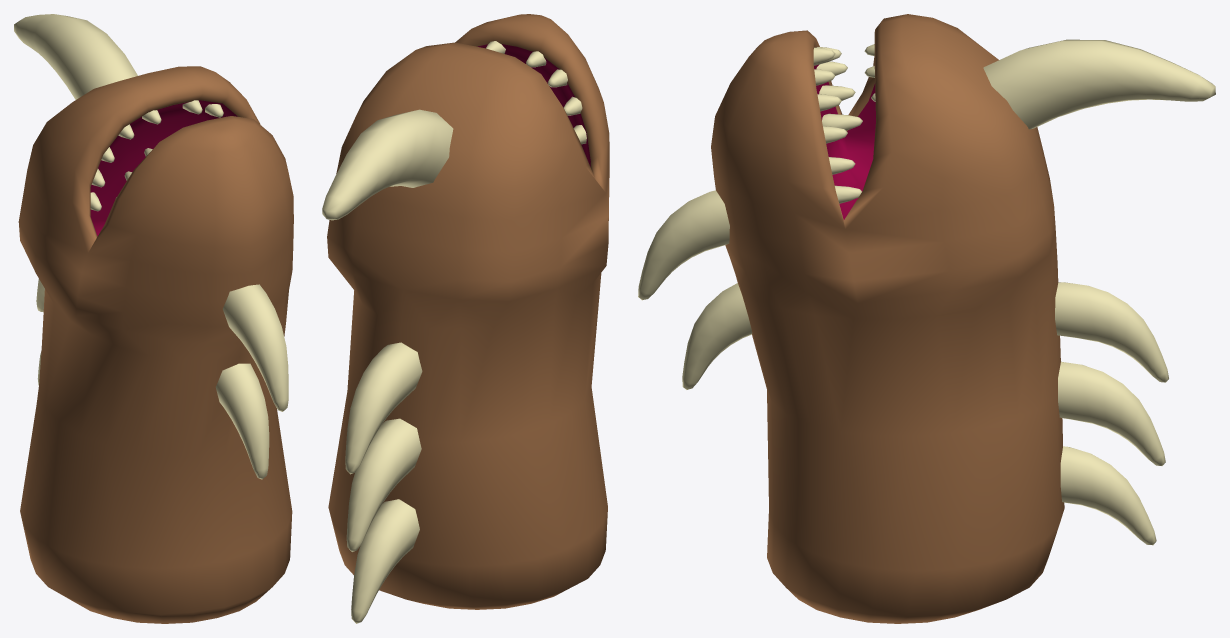
The model's file is Draconic.fbx.
3 views of the same model, side by side, from view 1: azimuth 30°, elevation 25°; view 2: azimuth 150°, elevation 25°; view 3: azimuth 270°, elevation 25° (orthographic). The views are drawn at different scales.
Visible parts, largest first — view 1: Draconic - Xantoss (A memer); view 2: Draconic - Xantoss (A memer); view 3: Draconic - Xantoss (A memer).
Part boxes in pixels (box(x1,y1,x2,y2)): Draconic - Xantoss (A memer): box(14, 14, 293, 623); Draconic - Xantoss (A memer): box(322, 14, 609, 623); Draconic - Xantoss (A memer): box(638, 14, 1215, 623).
Size of the model in its own units: 37.19 by 75.53 by 72.71.
